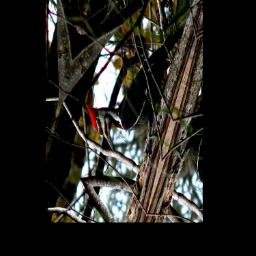Woodpecker: (80, 0, 190, 176)
